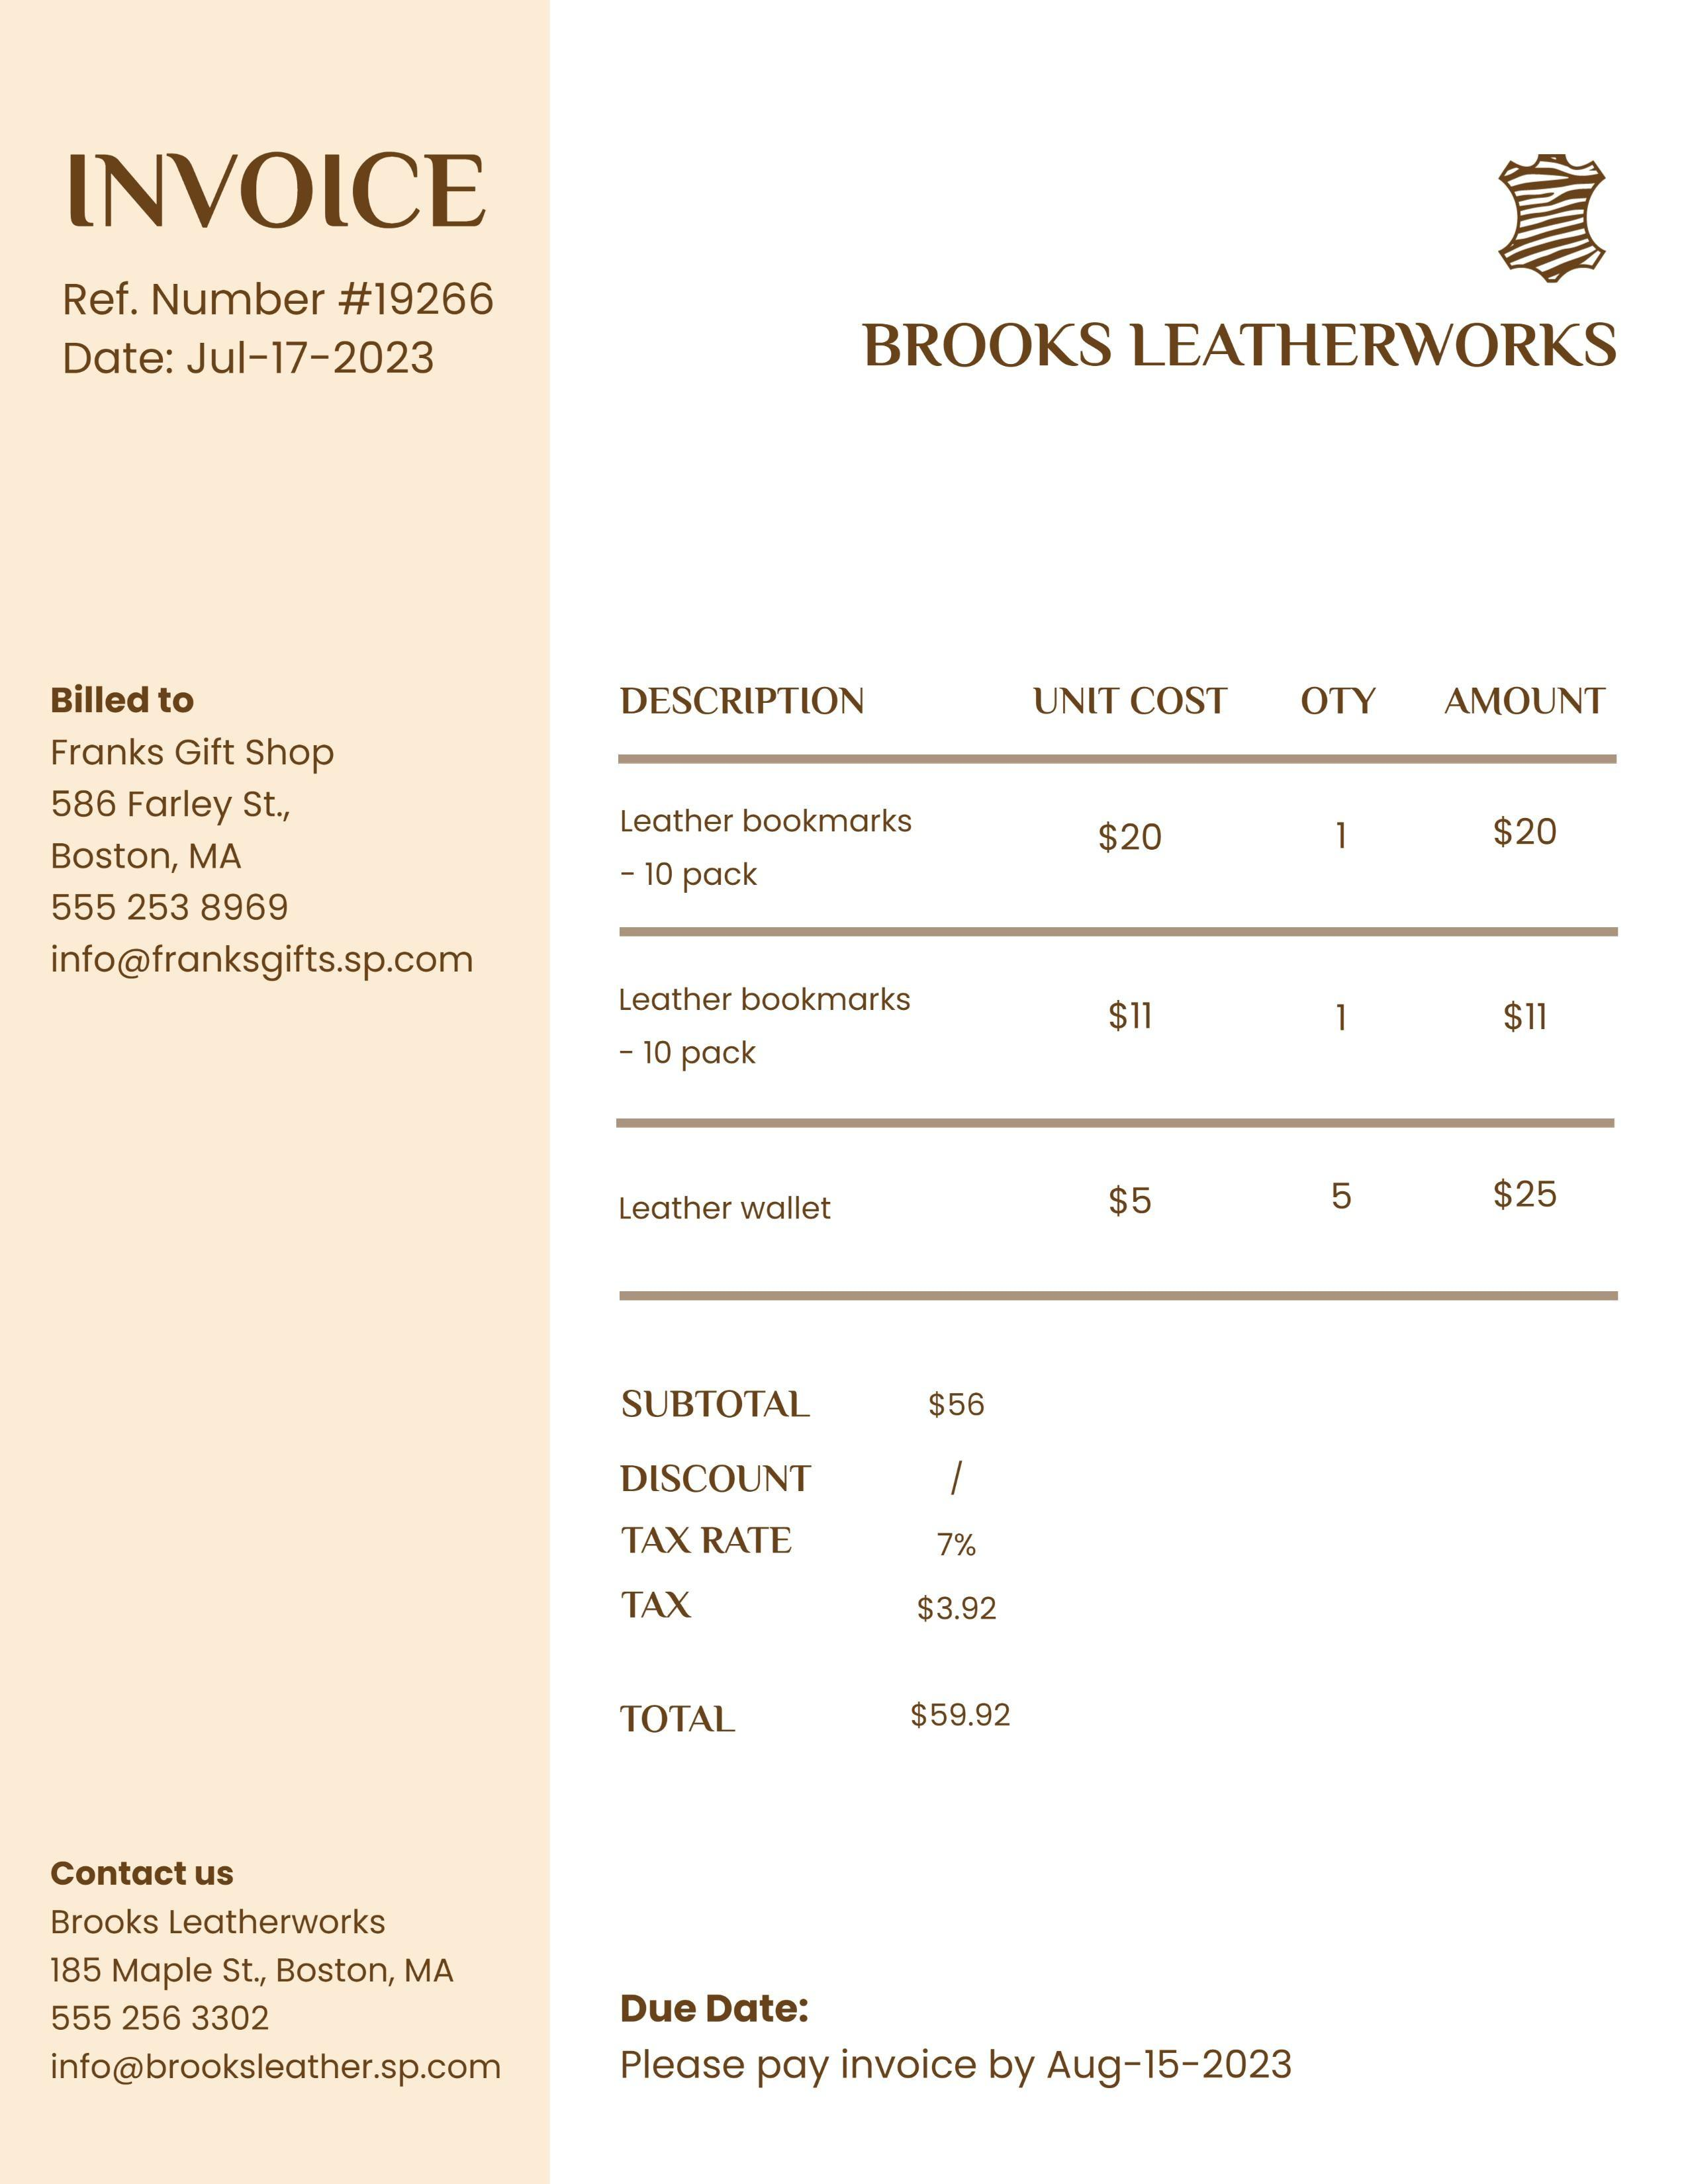ROI: (615, 674, 1619, 1289), (605, 1372, 1034, 1762), (35, 652, 496, 993), (603, 1985, 1356, 2102), (864, 289, 1642, 394), (28, 261, 518, 406)
